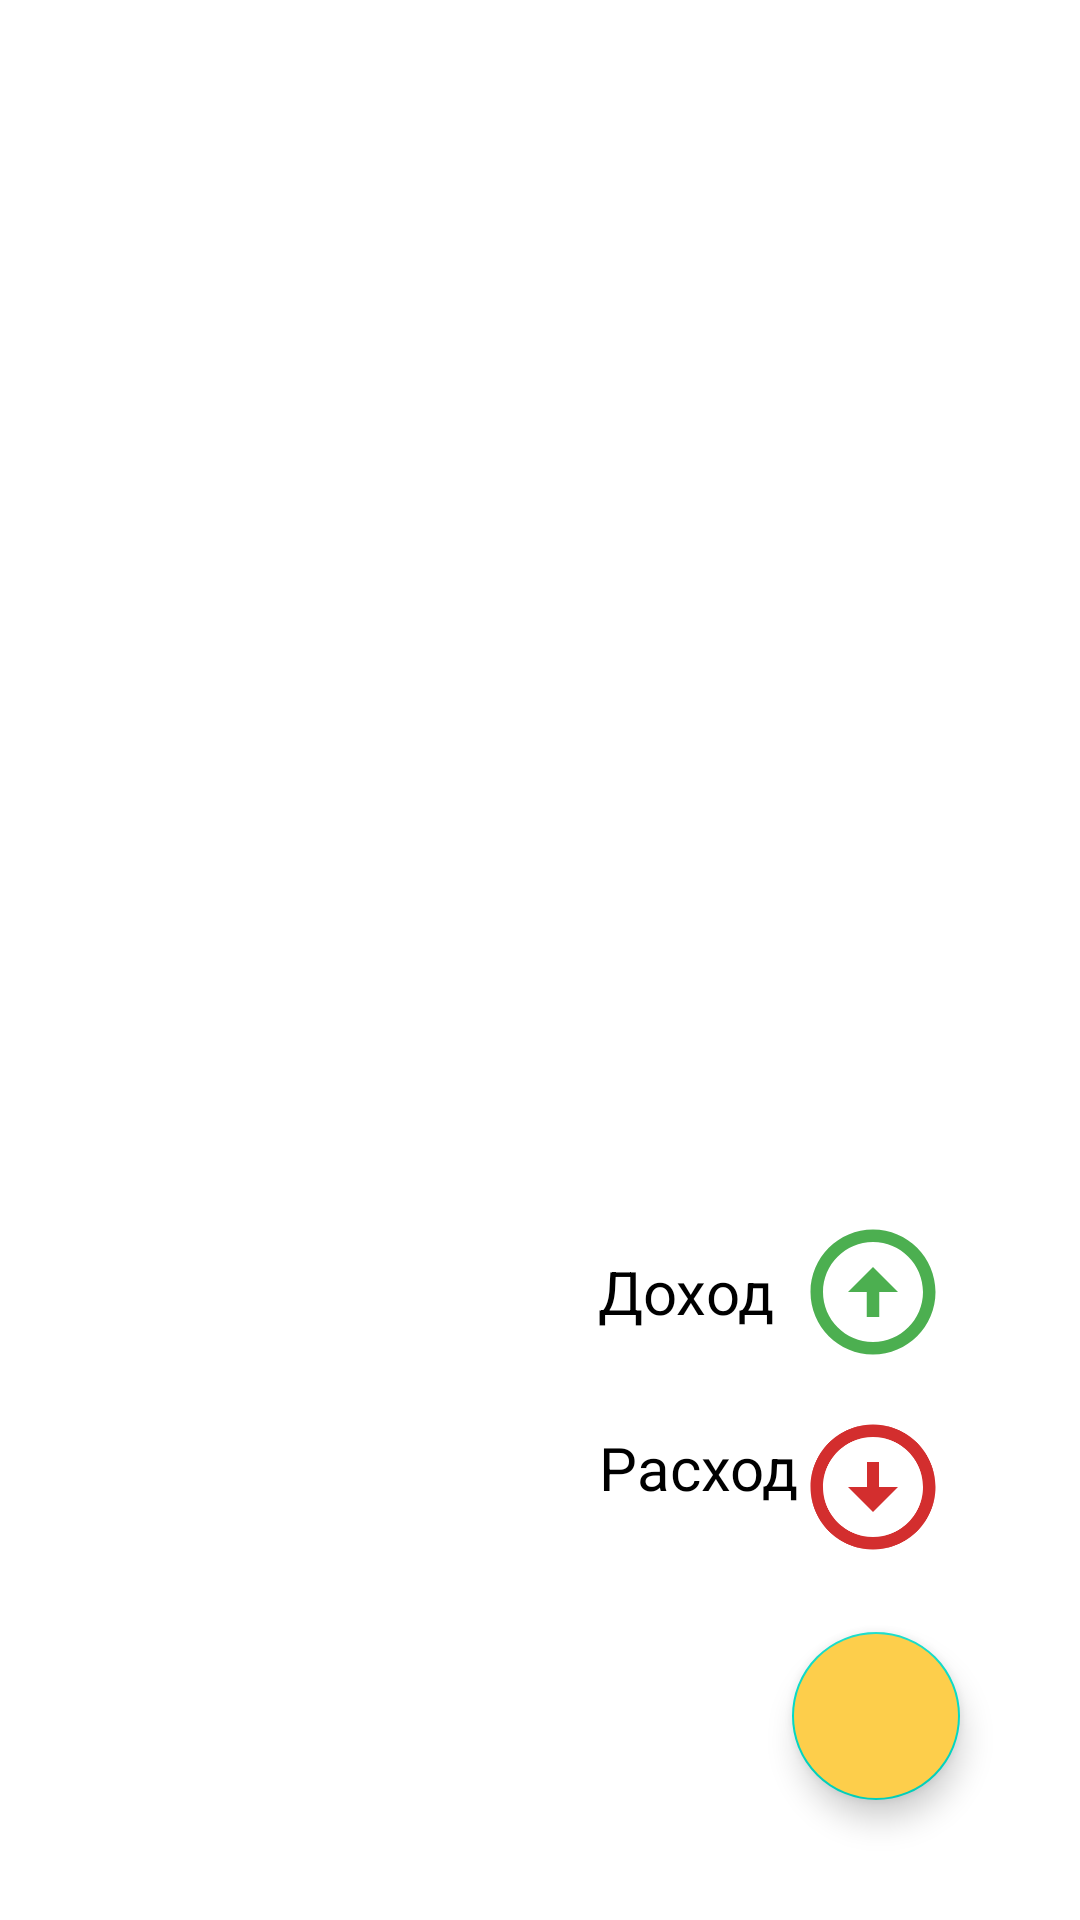

Where icons sit on this 1080*1920 app screen, as {"left": x1, "top": y1, "right": x2, "bottom": y2}:
arrow circle up: {"left": 810, "top": 1229, "right": 936, "bottom": 1355}
down: {"left": 810, "top": 1424, "right": 936, "bottom": 1550}
